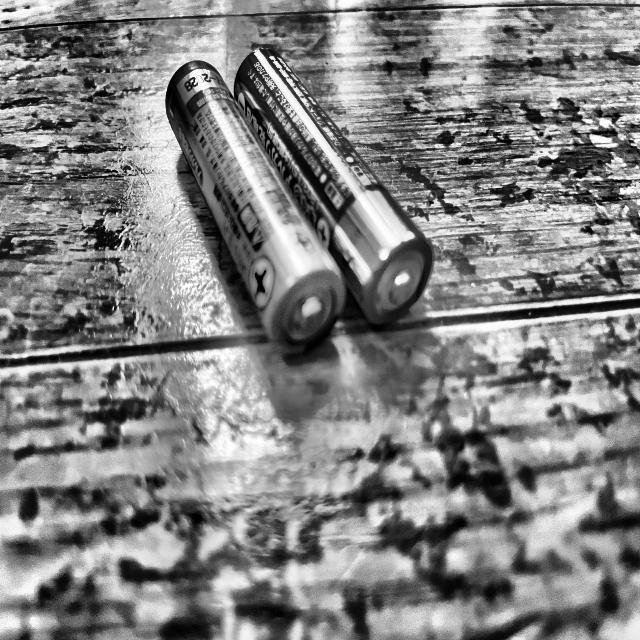drycell: (234, 48, 433, 325), (165, 60, 345, 352)
